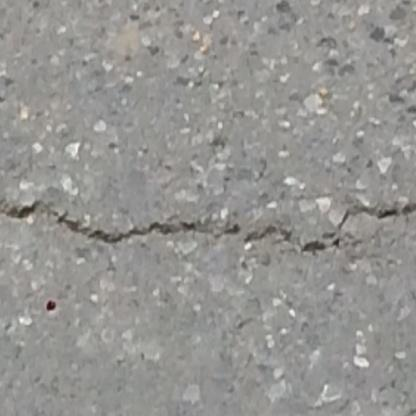Cracks: (298, 200, 416, 260), (49, 207, 202, 248), (221, 221, 296, 247), (0, 197, 45, 224)
